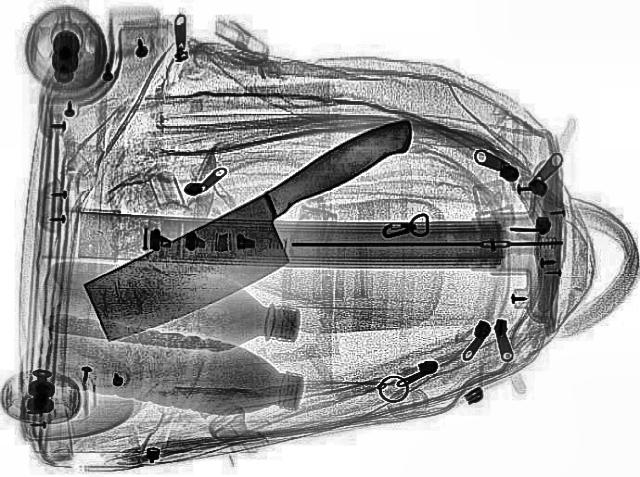Knife: (51, 110, 466, 354)
